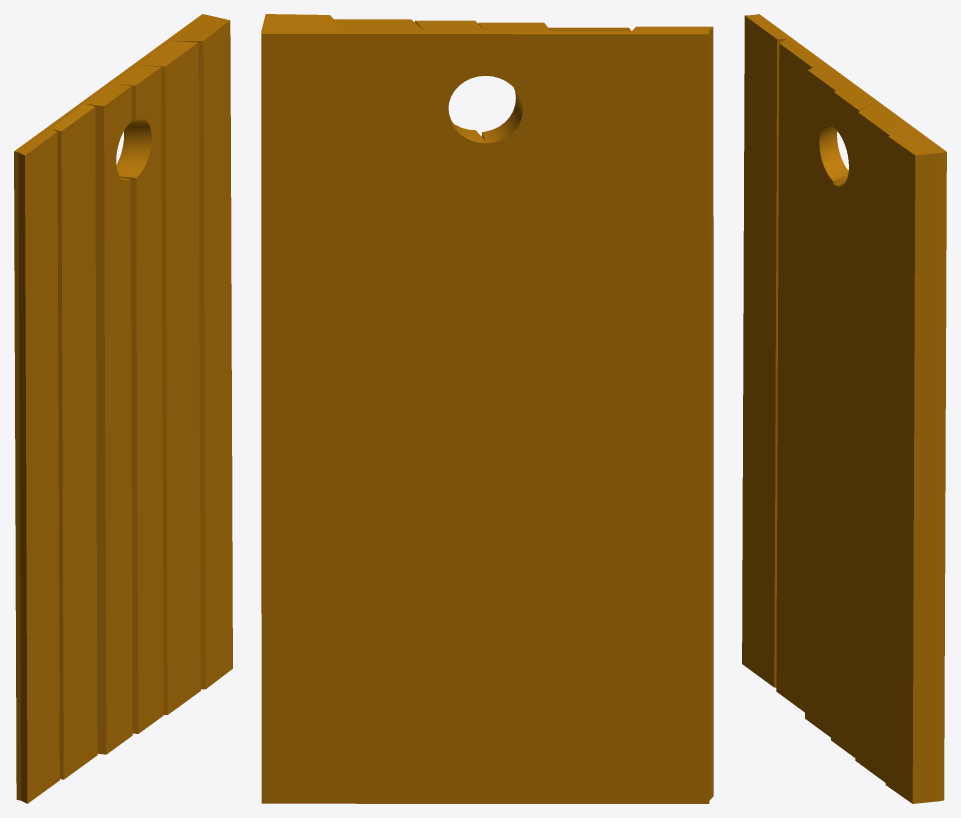
File: PortaEsconderijo.fbx
3 views of the same model, side by side, from view 1: azimuth 30°, elevation 25°; view 2: azimuth 150°, elevation 25°; view 3: azimuth 270°, elevation 25° (orthographic). The views are drawn at different scales.
Visible parts, largest first — view 1: Esconderijo.002; view 2: Esconderijo.002; view 3: Esconderijo.002.
Part boxes in pixels (x1,y1,x2,y2): Esconderijo.002: (14, 14, 232, 803); Esconderijo.002: (261, 14, 713, 803); Esconderijo.002: (742, 14, 946, 803).
Size of the model in its own units: 184 by 388 by 111.
